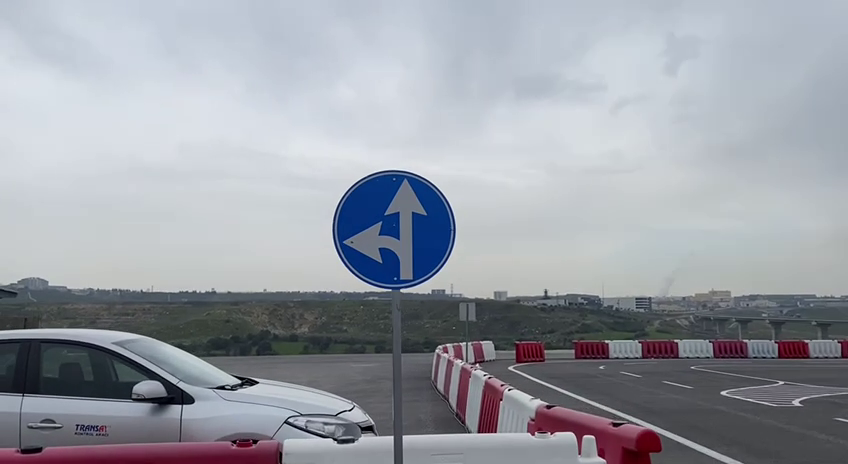forwardAndLeft: (330, 165, 459, 292)
